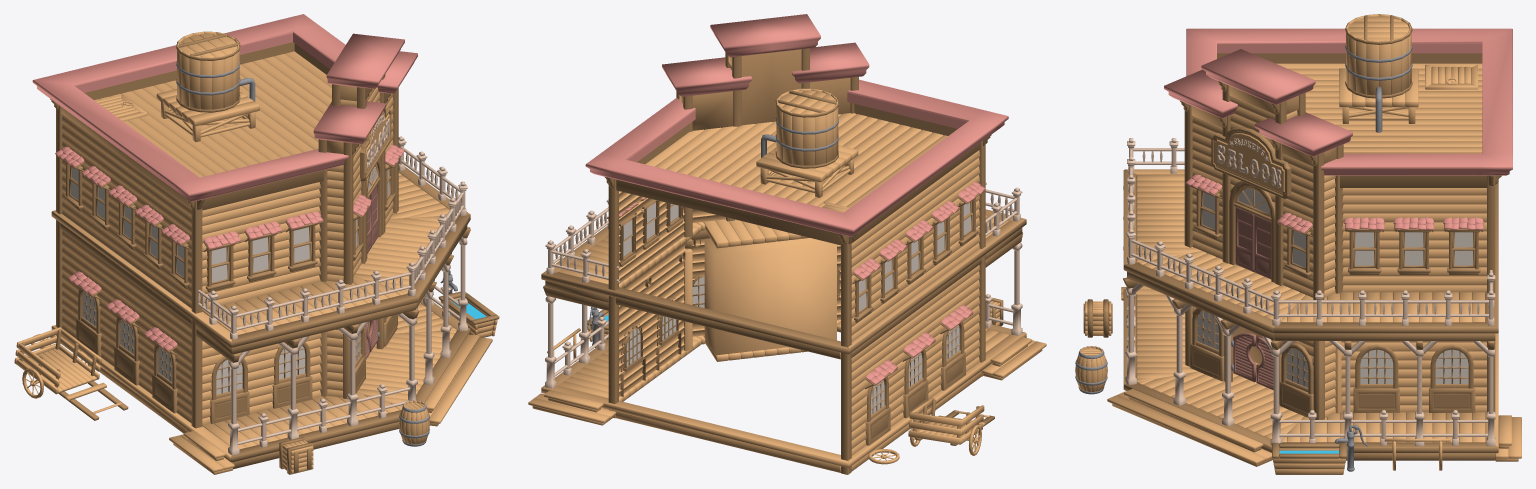
Rendered from Saloon.fbx.
3 views of the same model, side by side, from view 1: azimuth 30°, elevation 25°; view 2: azimuth 150°, elevation 25°; view 3: azimuth 270°, elevation 25° (orthographic). The views are drawn at different scales.
Parts seen in each view (by area): view 1: Frame, DeckBot.001, SaloonTopFront, DeckBot, Roof, WallTop.L, WindowTopBack.001, WindowBotBack.001, SaloonBotStruts, Tank, WallBot.L, Fence (+12 smaller); view 2: Frame, SaloonTopFront, SaloonBotFront, DeckBot.001, Roof, DeckBot, WindowTopBack.001, WindowBotBack.001, Tank, WallBot.R, WindowBotBack, WindowTopBack (+5 smaller); view 3: SaloonTopFront, DeckBot.001, Frame, DeckBot, WallTop.R, Roof, WallBot.R, SaloonBotStruts, Tank, Fence, SaloonBotFront, StepsFront (+15 smaller).
Boxes of the visible parts, <box> form: Frame: <box>32,14,348,428</box>; DeckBot.001: <box>51,167,470,354</box>; SaloonTopFront: <box>313,33,417,284</box>; DeckBot: <box>51,296,470,469</box>; Roof: <box>94,51,331,177</box>; WallTop.L: <box>202,182,323,310</box>; WindowTopBack.001: <box>61,115,191,308</box>; WindowBotBack.001: <box>61,230,191,423</box>; SaloonBotStruts: <box>196,227,470,455</box>; Tank: <box>156,31,259,142</box>; WallBot.L: <box>202,333,321,425</box>; Fence: <box>197,136,467,339</box>; Frame: <box>585,79,1008,474</box>; SaloonTopFront: <box>662,14,869,237</box>; SaloonBotFront: <box>684,230,840,355</box>; DeckBot.001: <box>541,209,1026,359</box>; Roof: <box>645,113,947,207</box>; DeckBot: <box>541,320,1026,472</box>; WindowTopBack.001: <box>851,150,979,341</box>; WindowBotBack.001: <box>851,265,979,455</box>; Tank: <box>756,88,858,197</box>; WallBot.R: <box>619,242,686,396</box>; WindowBotBack: <box>865,305,973,445</box>; WindowTopBack: <box>853,182,985,322</box>; SaloonTopFront: <box>1164,49,1352,299</box>; DeckBot.001: <box>1123,169,1498,340</box>; Frame: <box>1186,28,1512,412</box>; DeckBot: <box>1123,289,1498,460</box>; WallTop.R: <box>1342,188,1486,292</box>; Roof: <box>1276,63,1482,153</box>; WallBot.R: <box>1341,341,1486,412</box>; SaloonBotStruts: <box>1123,186,1495,446</box>; Tank: <box>1339,14,1418,132</box>; Fence: <box>1125,138,1495,326</box>; SaloonBotFront: <box>1185,306,1342,419</box>; StepsFront: <box>1107,388,1272,466</box>.
Bounding box in the file's own units: 1520 × 1113 × 1353.
